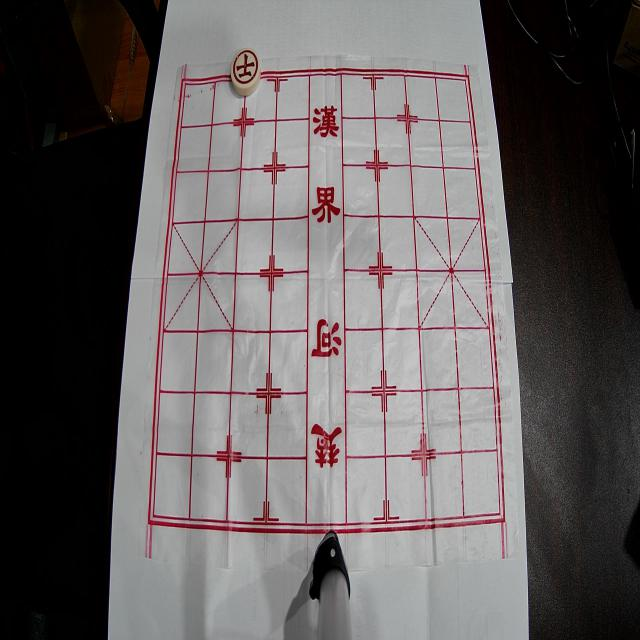red-guard: (231, 48, 261, 96)
